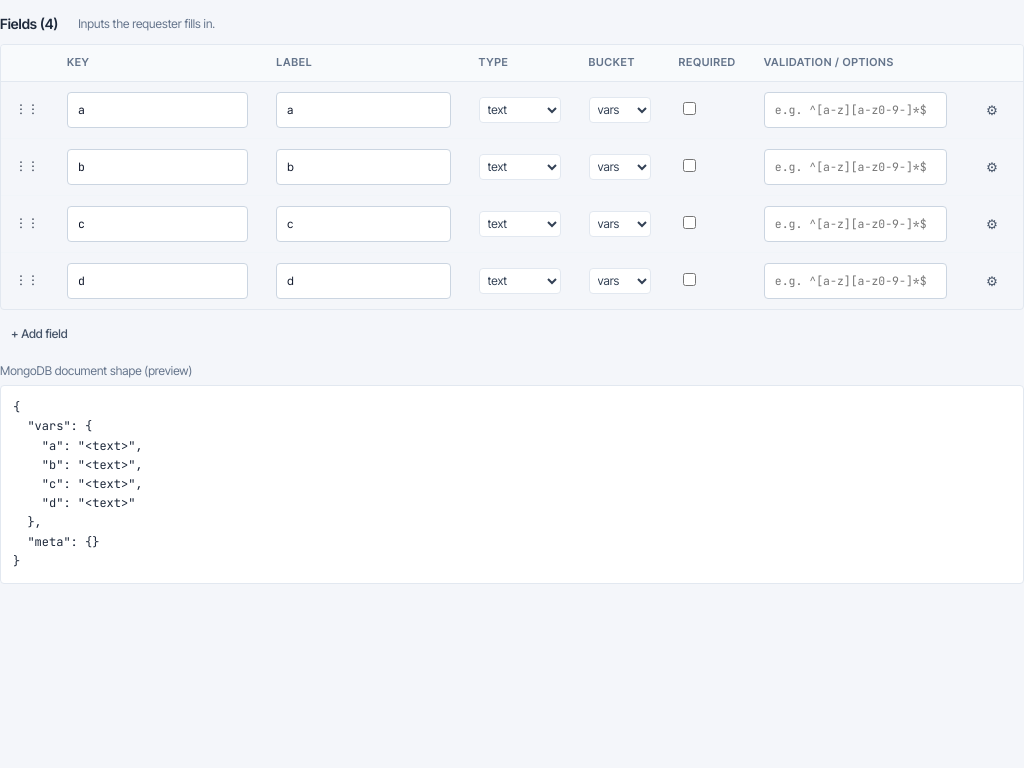
Test: FieldsTable › clicking "Add field" appends a new row and brings it into edit mode
Click the button "+ Add field".
click(39, 334)  # box [0,320,79,348]
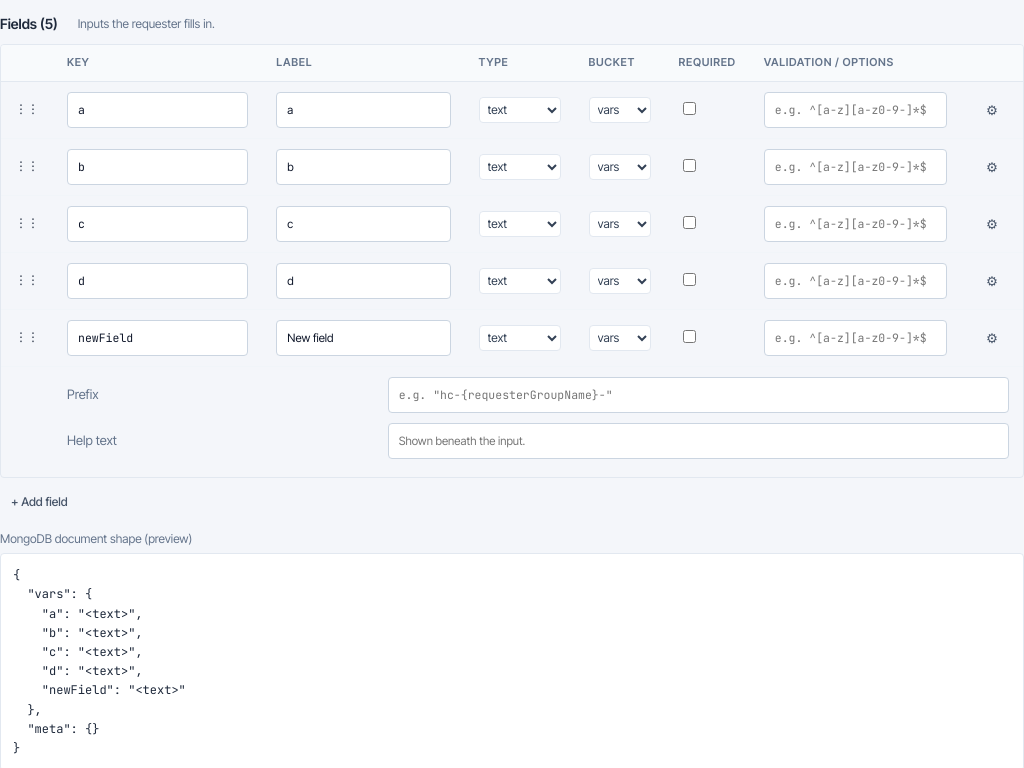
Now the field named "label for newField" is shown, box [276,320,450,356]
